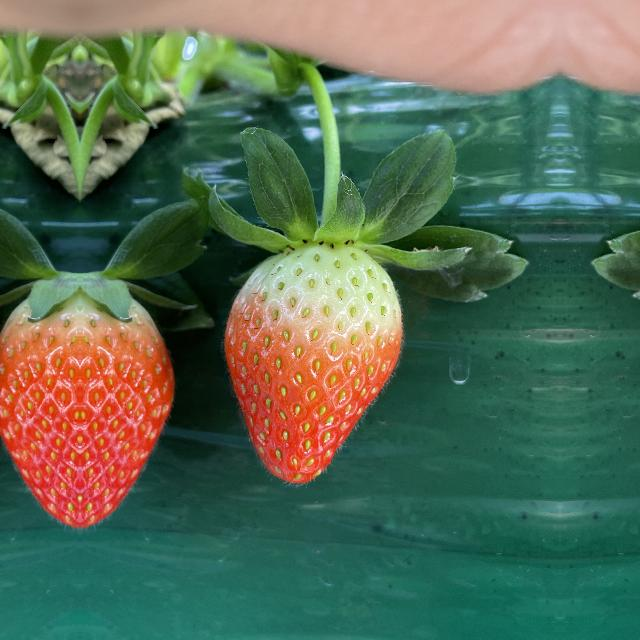Health_25: (80, 255, 170, 531), (0, 255, 79, 531)
Health_75: (208, 232, 410, 490)
